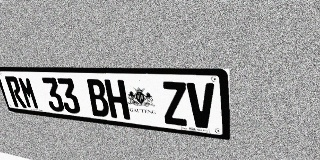3: (57, 78, 81, 114), (41, 77, 65, 112)
B: (85, 79, 111, 118)
H: (104, 79, 130, 120)
M: (17, 77, 40, 110)
R: (4, 76, 27, 108)
V: (186, 82, 215, 129)
Z: (160, 81, 189, 126)
